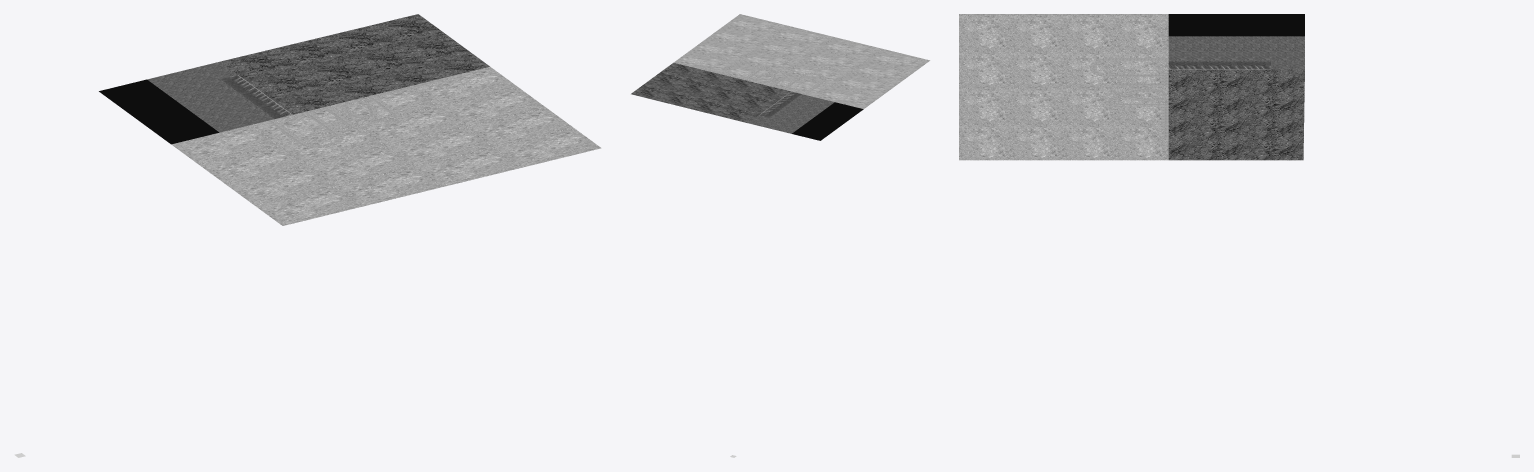
File: newMap1.fbx
The picture shows the model from 3 angles, left to right: view 1: azimuth 30°, elevation 25°; view 2: azimuth 150°, elevation 25°; view 3: azimuth 270°, elevation 25°; orthographic projection. The views are drawn at different scales.
Visible parts, largest first — view 1: Plane, path; view 2: Plane, path; view 3: Plane, path.
Boxes of the visible parts, box(x1,y1,x2,y2) form: Plane: box(99, 14, 601, 225); path: box(268, 77, 448, 147); Plane: box(631, 14, 929, 140); path: box(700, 66, 826, 94); Plane: box(959, 14, 1304, 160); path: box(1090, 58, 1168, 139).
Size of the model in its own units: 24428 by 33256 by 39600.
